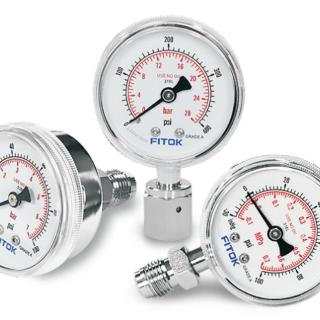gauge: (90, 4, 246, 168), (198, 153, 320, 315), (0, 117, 79, 295), (120, 113, 140, 131), (222, 208, 242, 226), (160, 86, 176, 104), (266, 226, 284, 242), (196, 117, 212, 135), (27, 234, 41, 252), (258, 265, 271, 284), (8, 192, 20, 206), (244, 190, 252, 198), (123, 120, 131, 128)
